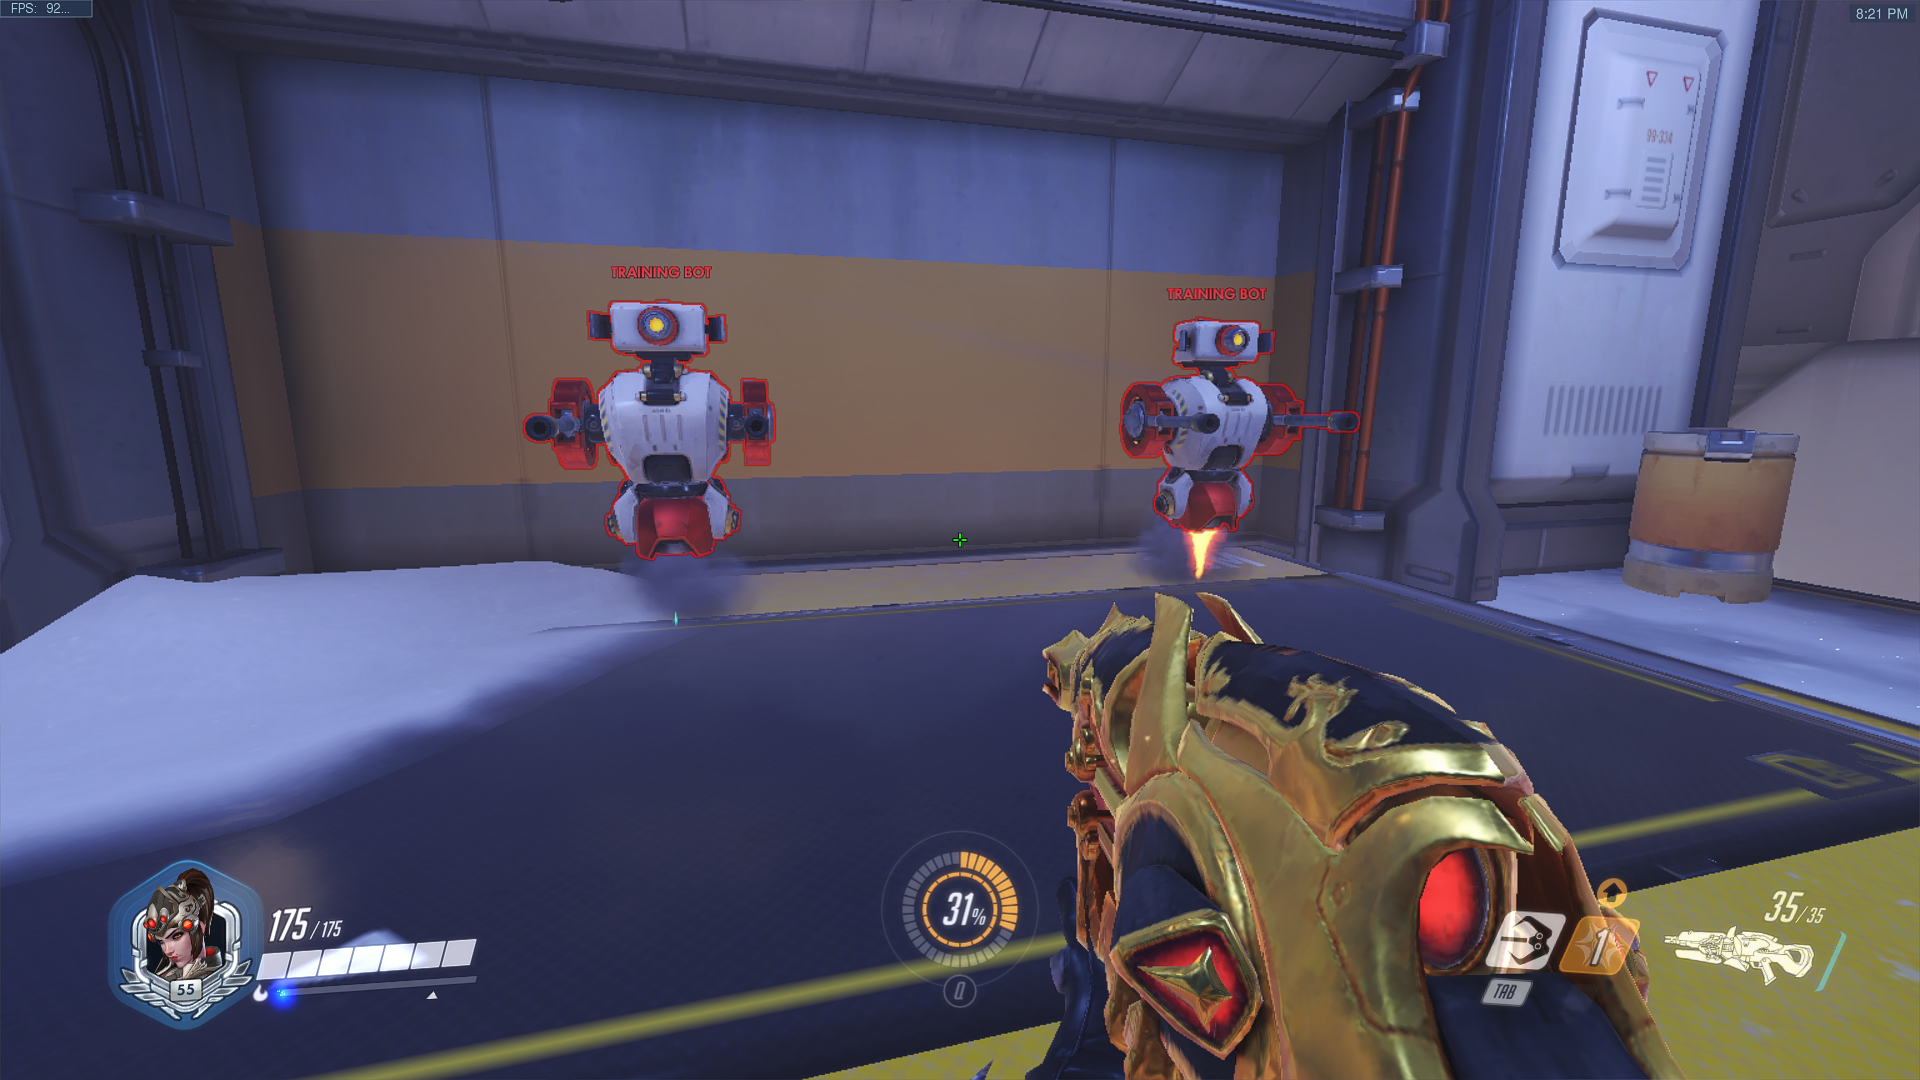head: (612, 305, 706, 356), (1177, 321, 1258, 365)
